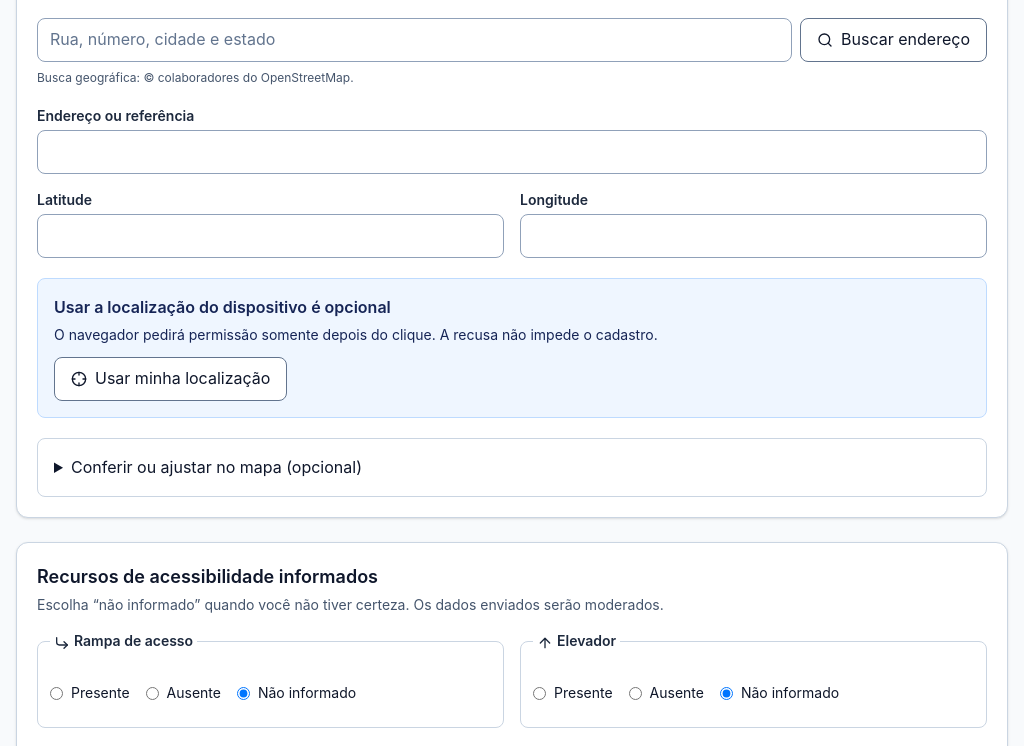
Test case: NovoLocal › permite coordenadas manuais quando geolocalização não existe
The width and height of the screenshot is (1024, 746).
(page scrolled)
Click the button "Usar minha localização": (171, 379) [54, 357, 287, 401]
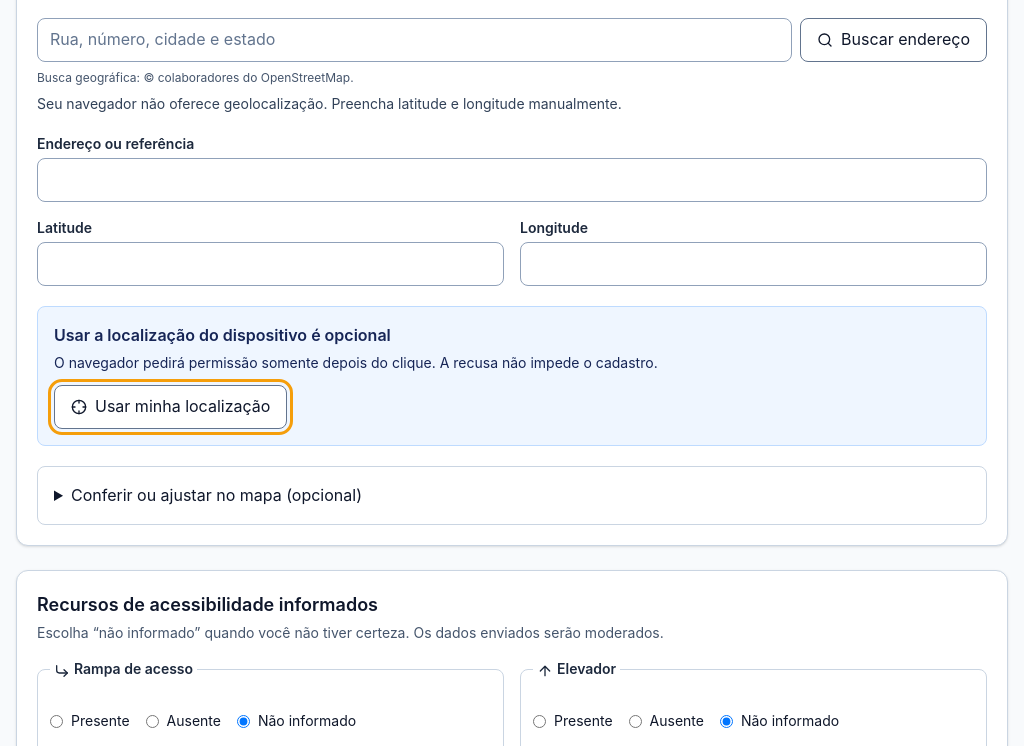
Expected: the message shows "não oferece geolocalização", [37, 95, 622, 112]
